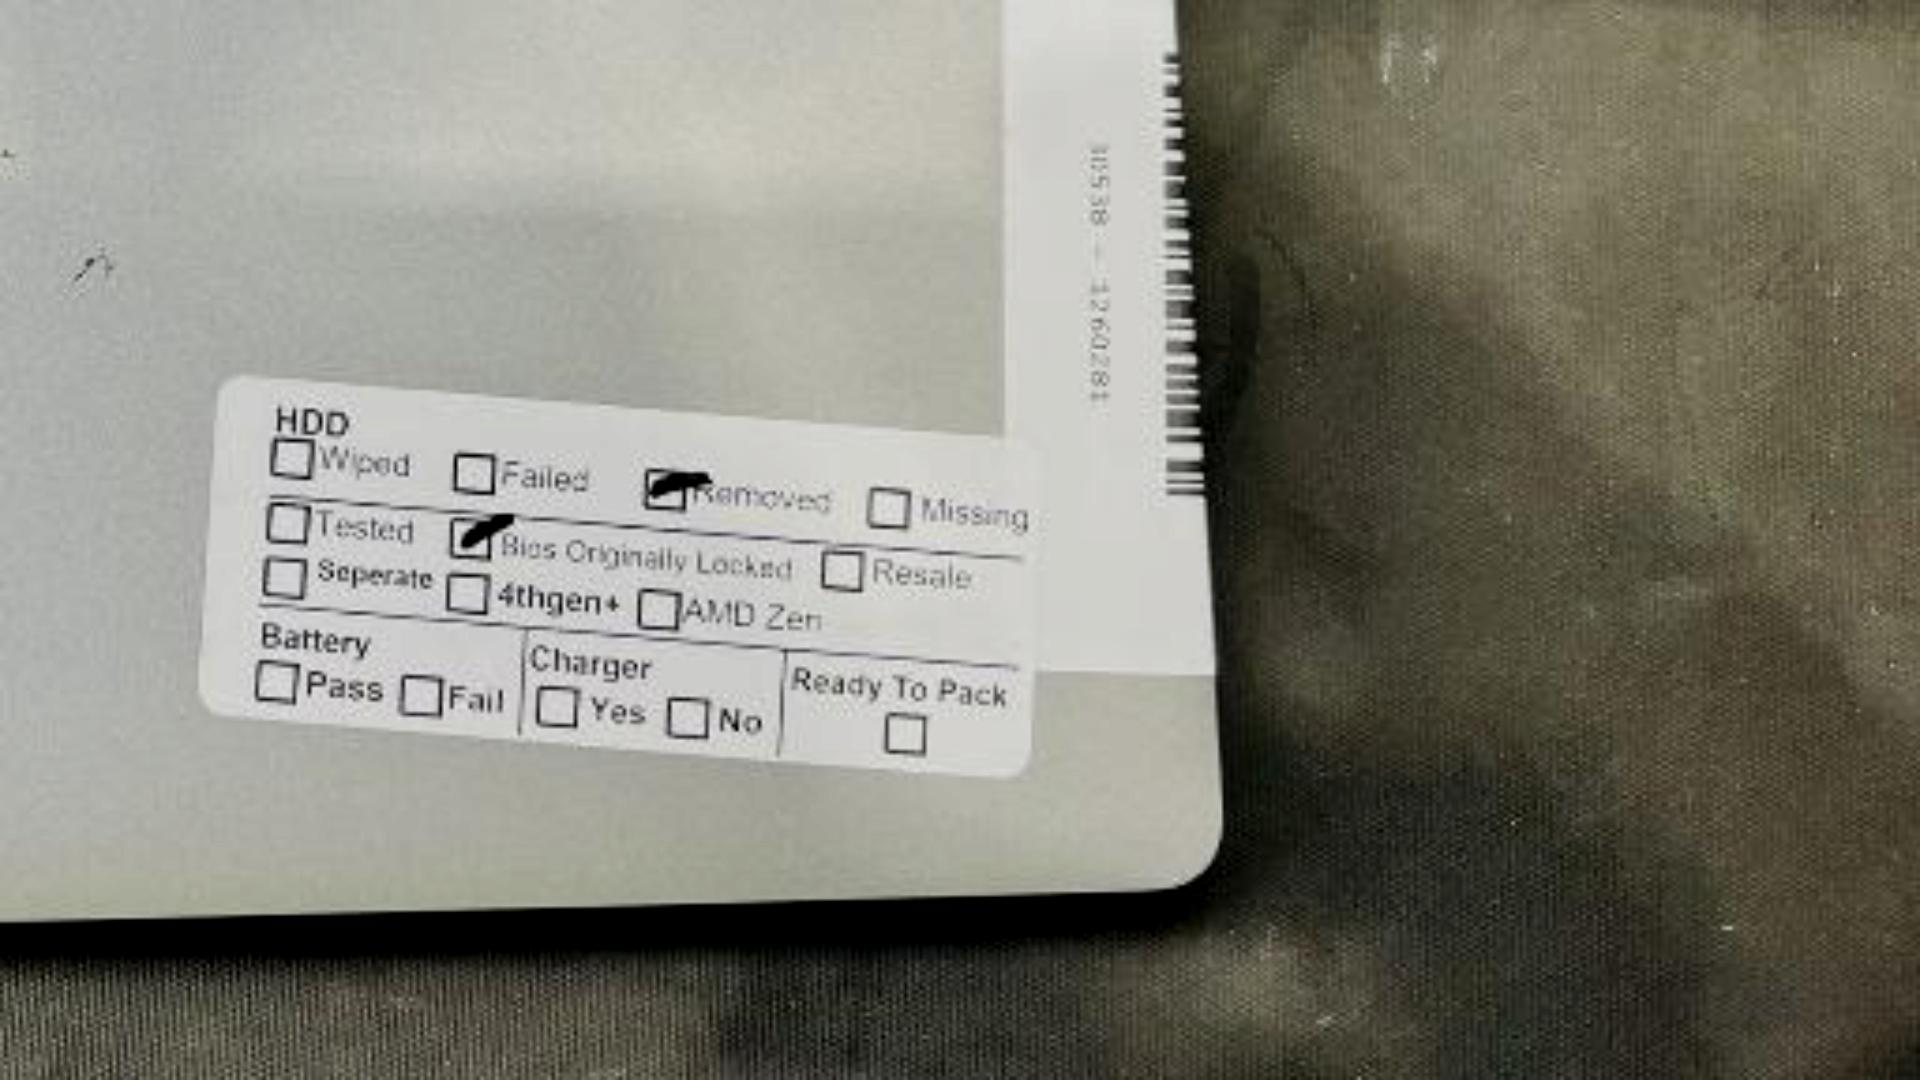scratches: (70, 252, 116, 285), (0, 146, 24, 160)
